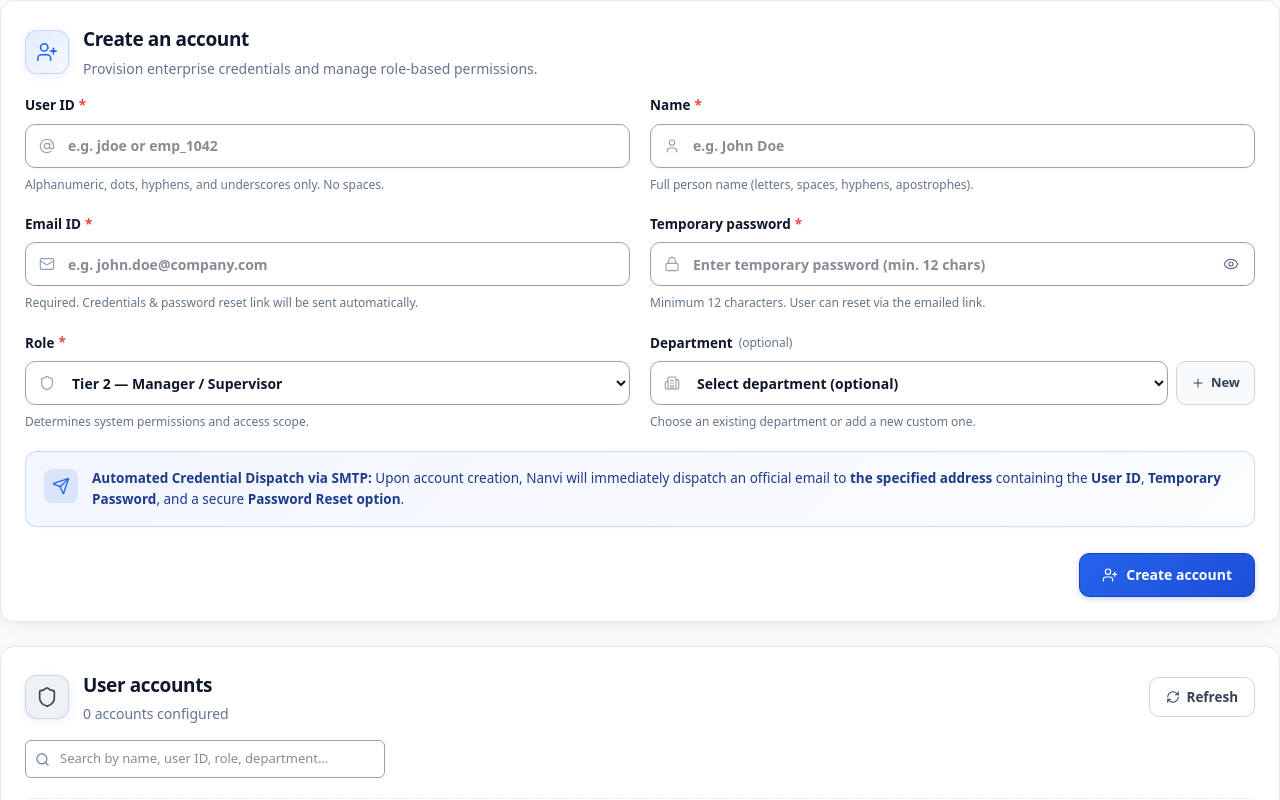
Test: allows customizable department creation and adds it to selection list
// Click "New" department trigger
Click the button "New". click: (1215, 383)
box: [1176,361,1255,405]
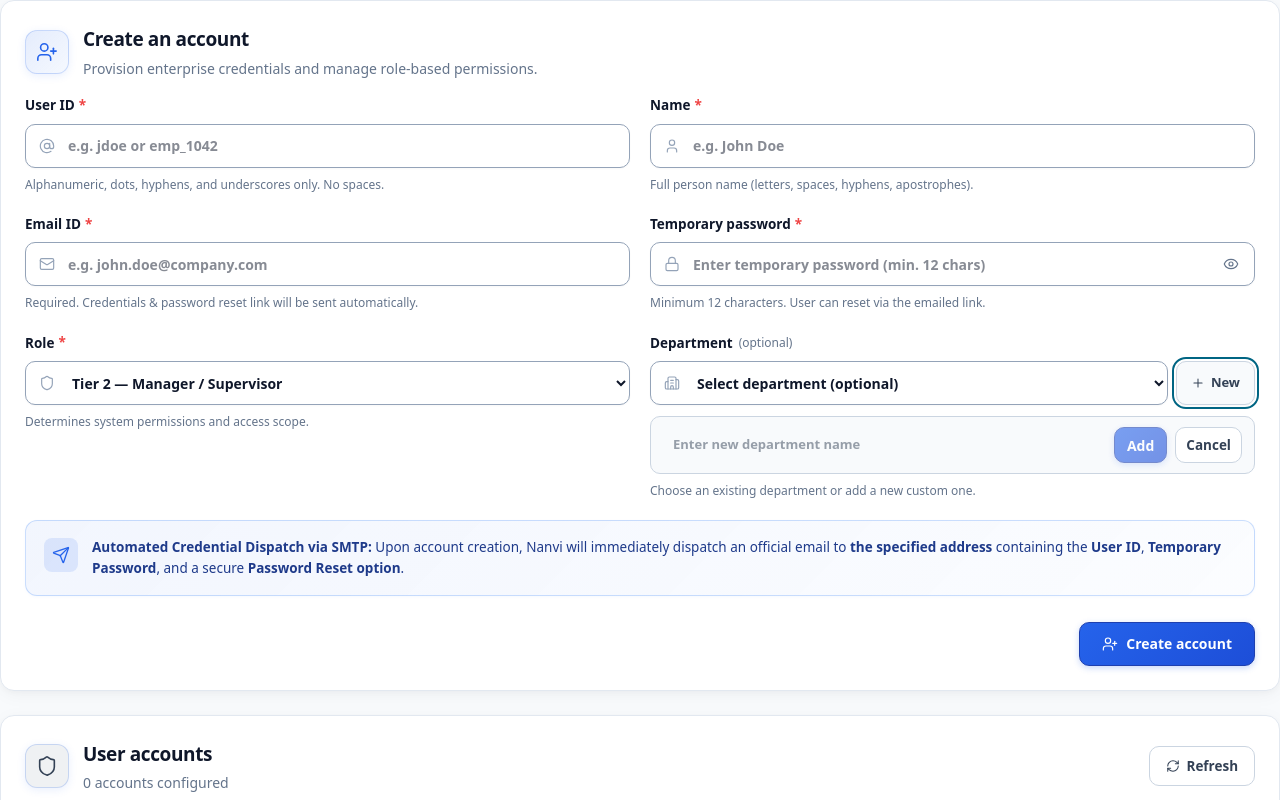
Type "Robotics" into the field with placeholder "Enter new department name". click: (884, 445)
box: [663,427,1106,463]
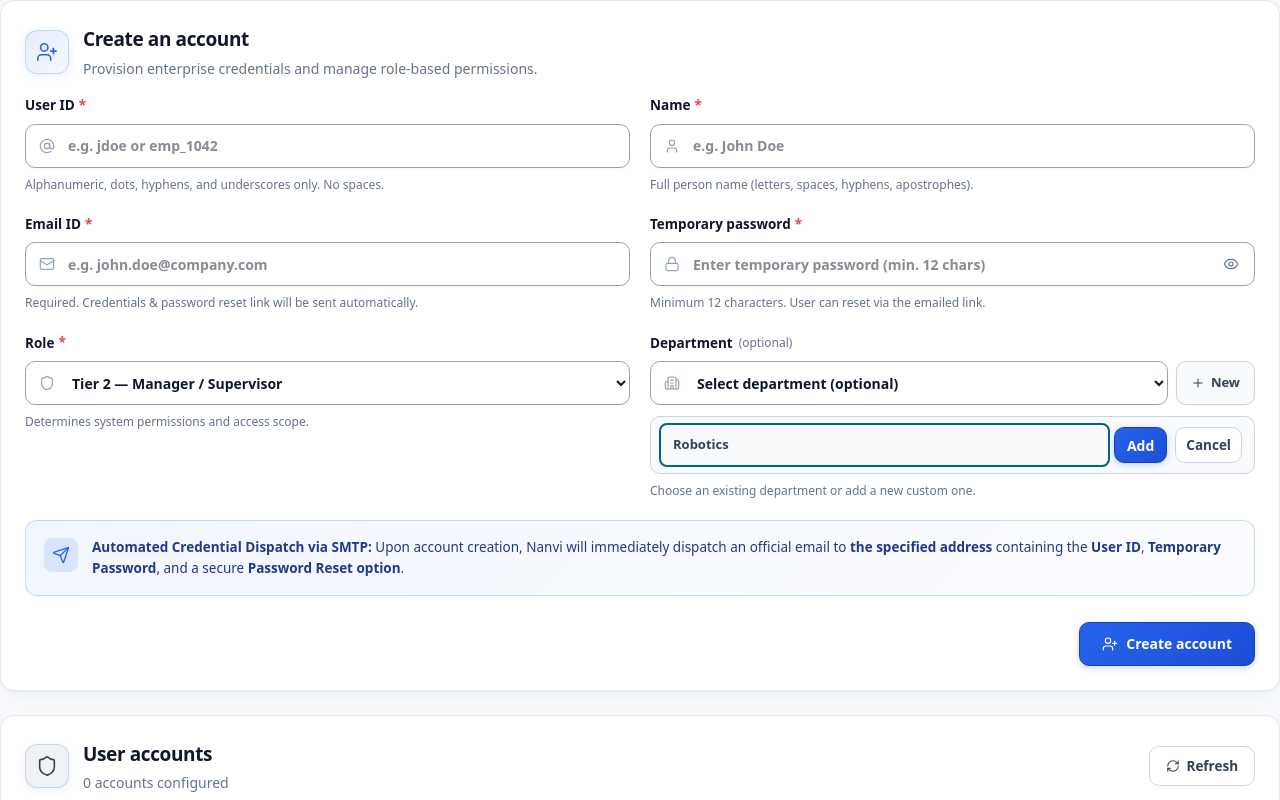
Click the button "Add". click: (1141, 445)
box: [1114,427,1167,463]
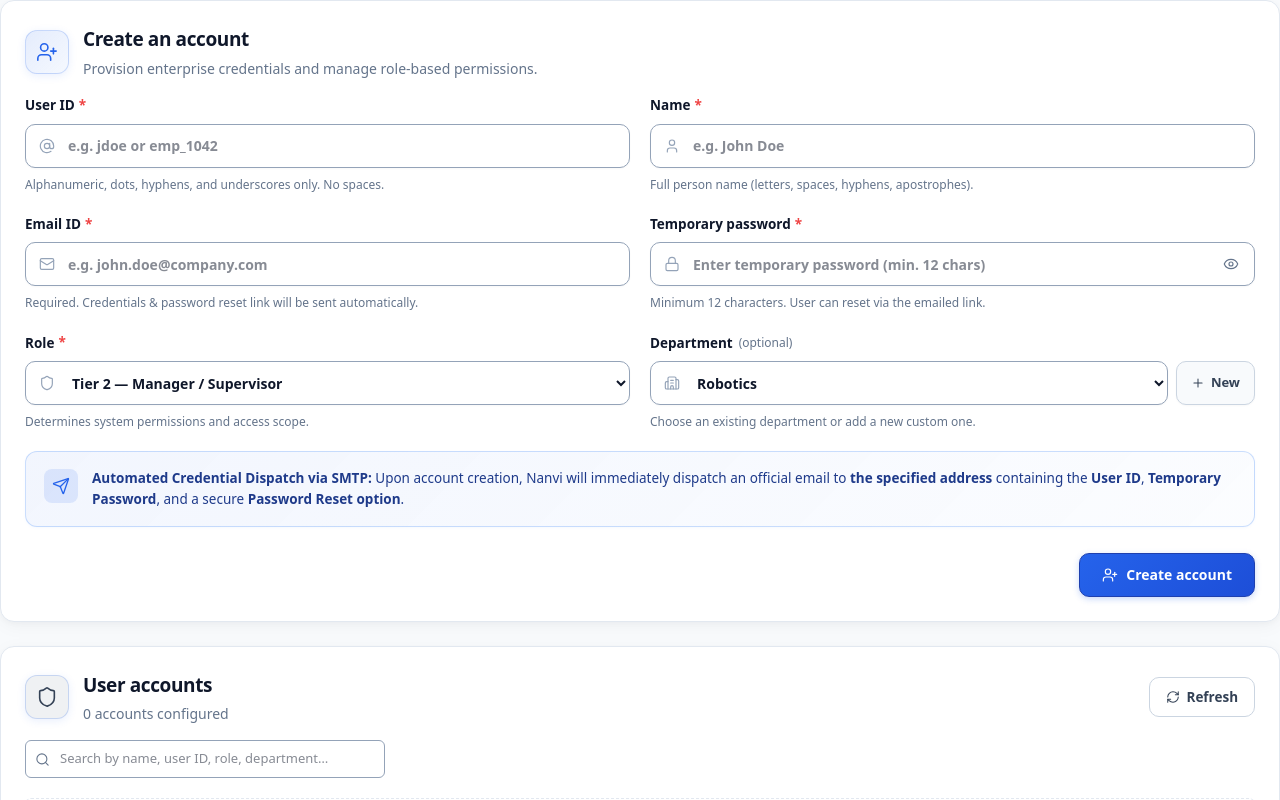
Now the dropdown labelled "Department" shows "Robotics", box [650,361,1168,405]
